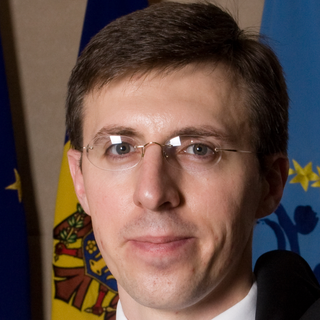eye: (101, 136, 143, 162), (178, 140, 225, 163)
